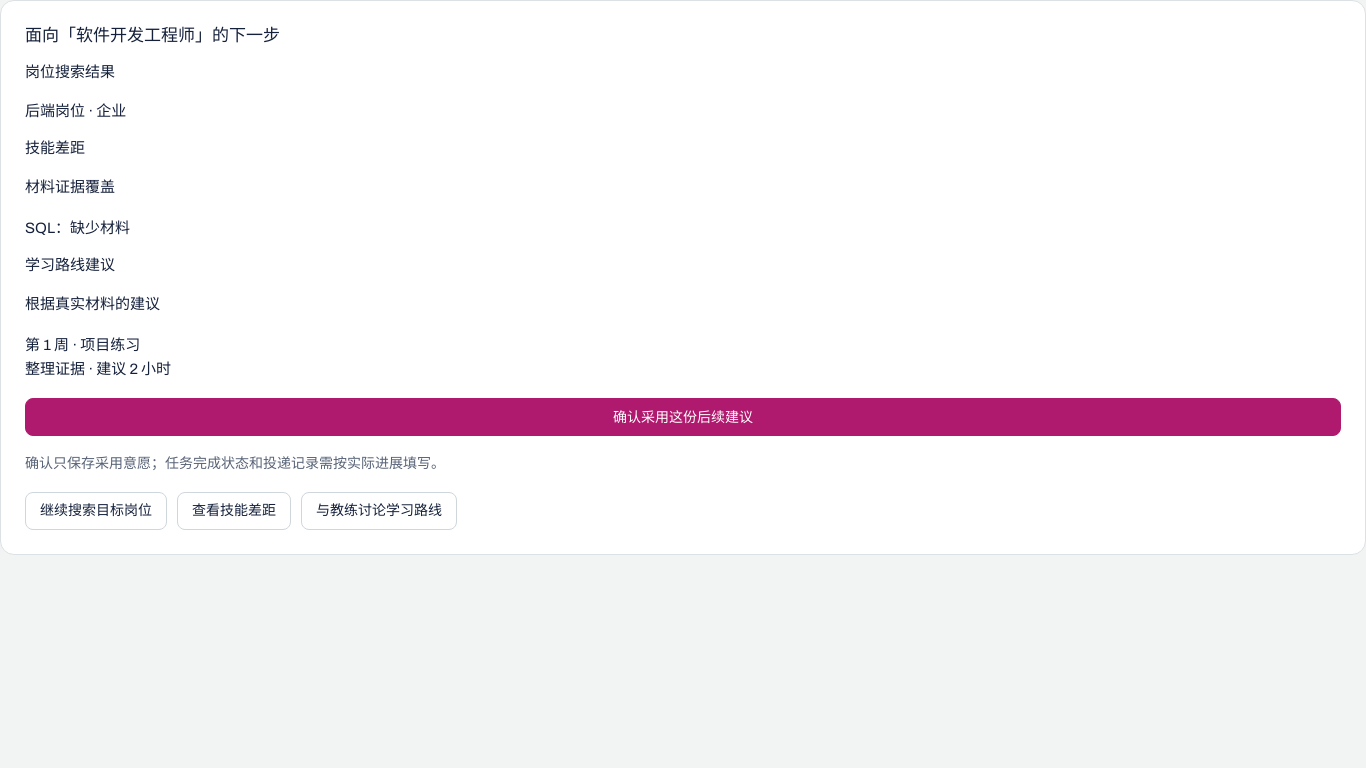
shows searched jobs, evidence gaps and roadmap before explicitly confirming adoption
Click the button "确认采用这份后续建议".
click(683, 417)  # box x1=25 y1=398 x2=1341 y2=436
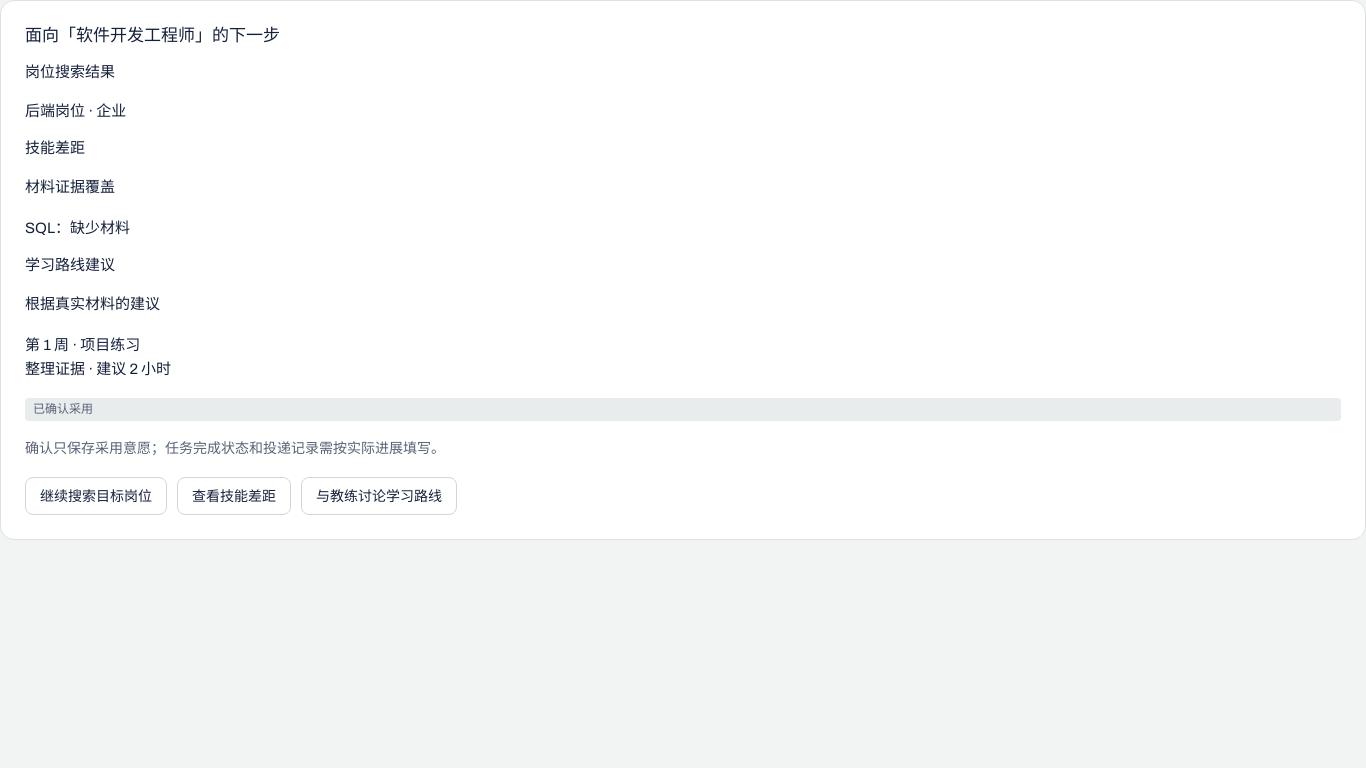
Check: the text "已确认采用" is shown, box x1=25 y1=398 x2=1341 y2=421
